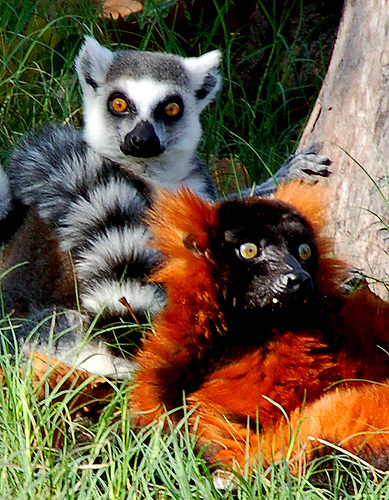cat: (0, 28, 242, 387), (131, 186, 387, 472)
